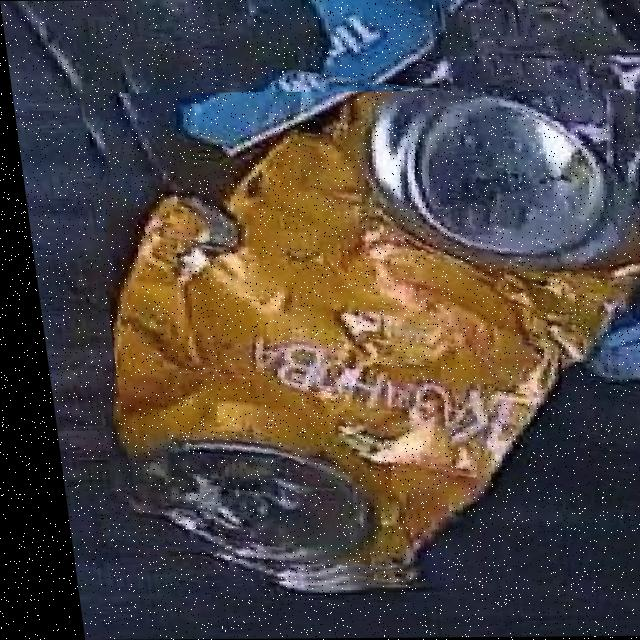can: (100, 90, 640, 574)
